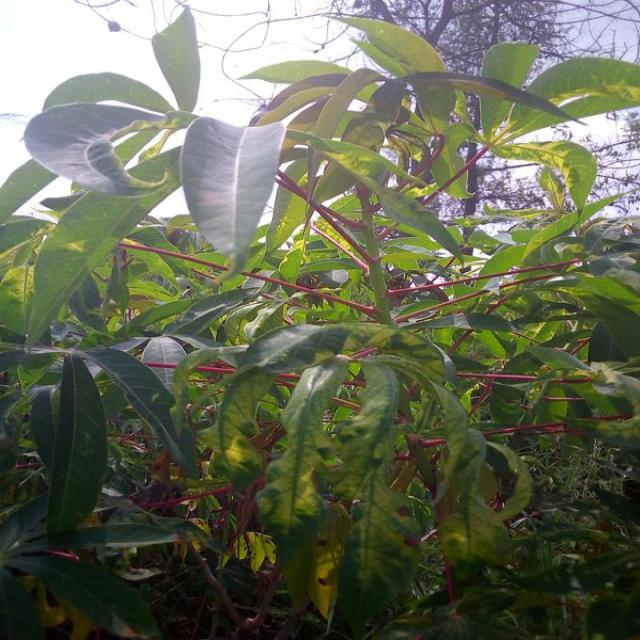cassava leaf: (1, 3, 638, 636), (178, 114, 286, 277)
